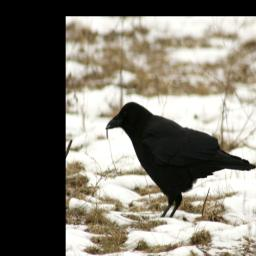Crow: (102, 95, 255, 221)
